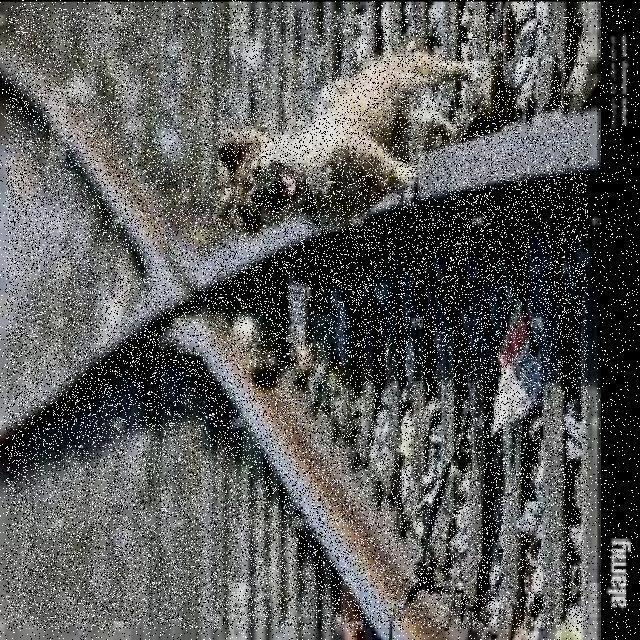rail: (7, 9, 589, 630)
